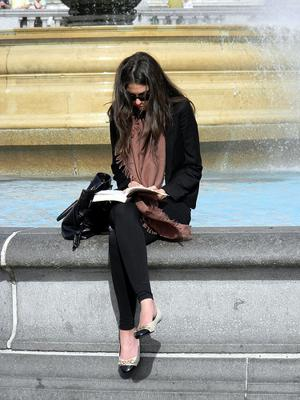person: (108, 53, 204, 374)
